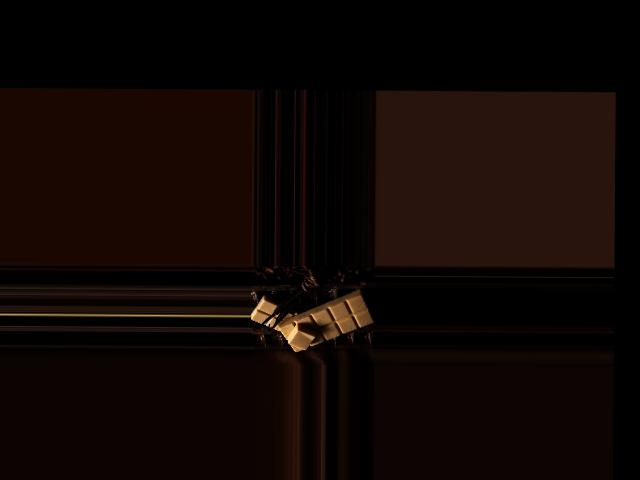chocolate: (275, 290, 372, 352)
